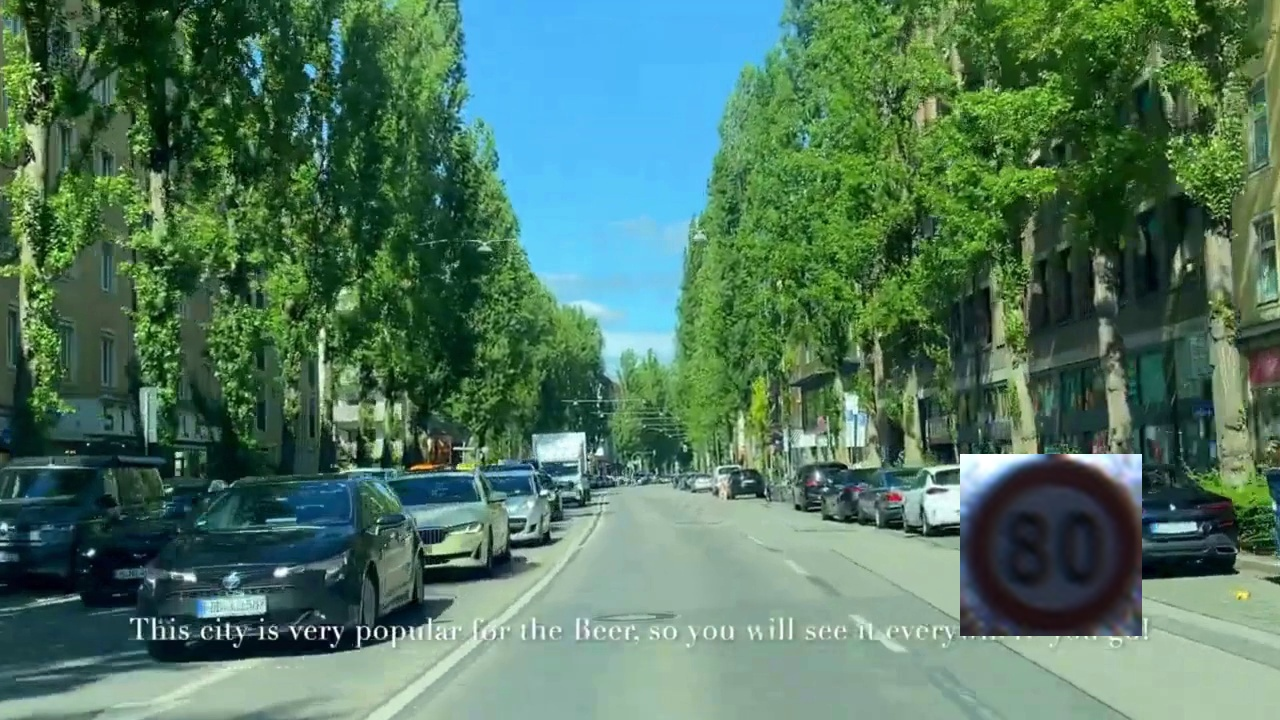Speed 80: (960, 454, 1142, 636)
